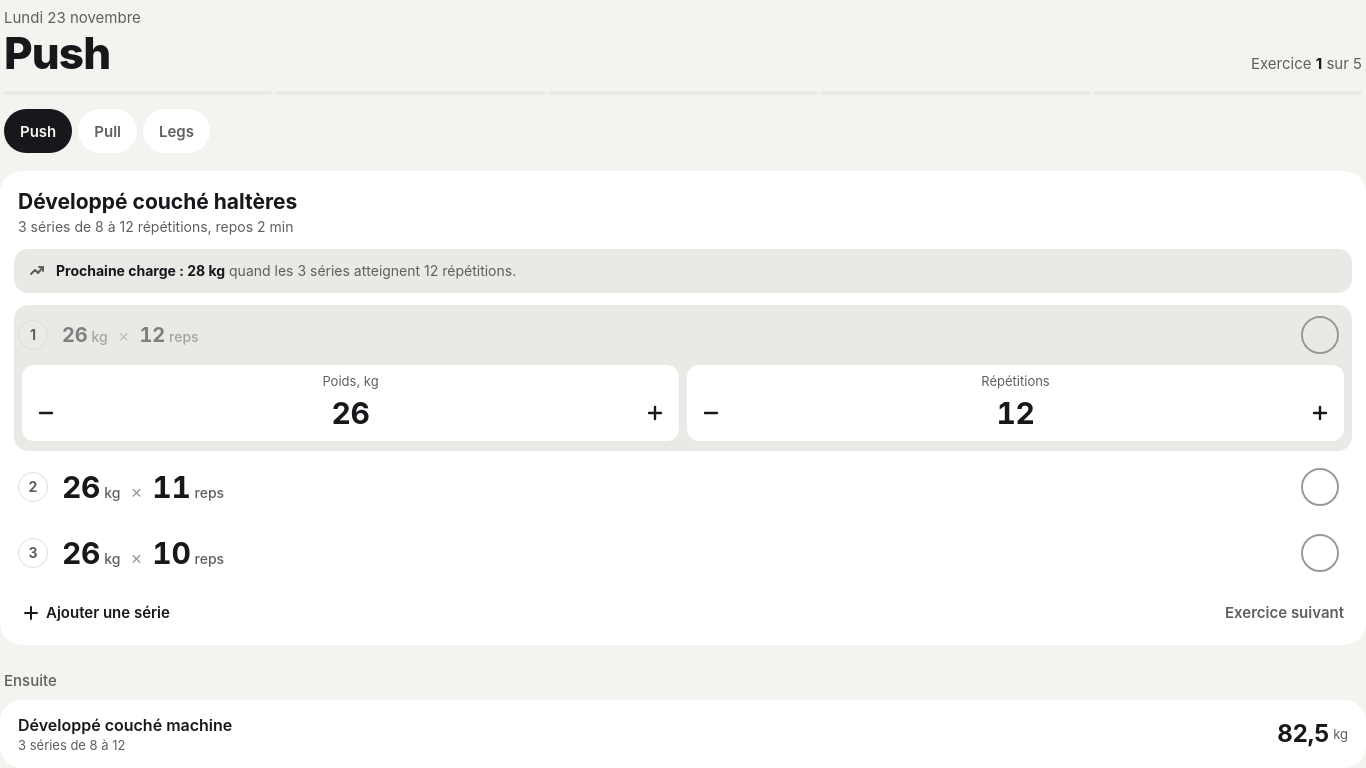
Test: SessionPage › valider les 3 séries replie l’exercice (3/3) et ouvre le suivant
What coordinates should you click on to do the following:
click the button named "Valider la série 1"
I would click on:
 (1320, 335)
Its box is x1=1294 y1=309 x2=1346 y2=361.
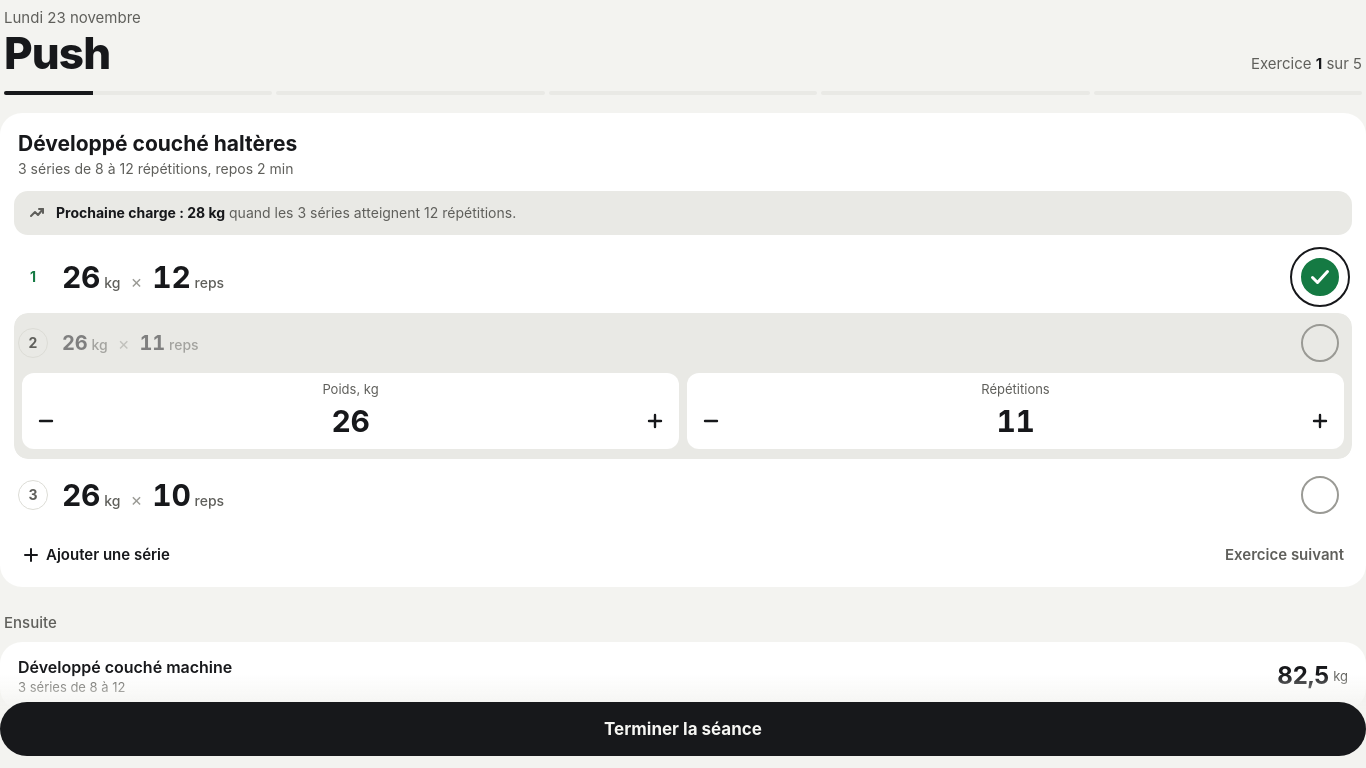
What coordinates should you click on to do the following:
click the button named "Valider la série 2"
I would click on:
 (1320, 343)
Its box is x1=1294 y1=317 x2=1346 y2=369.
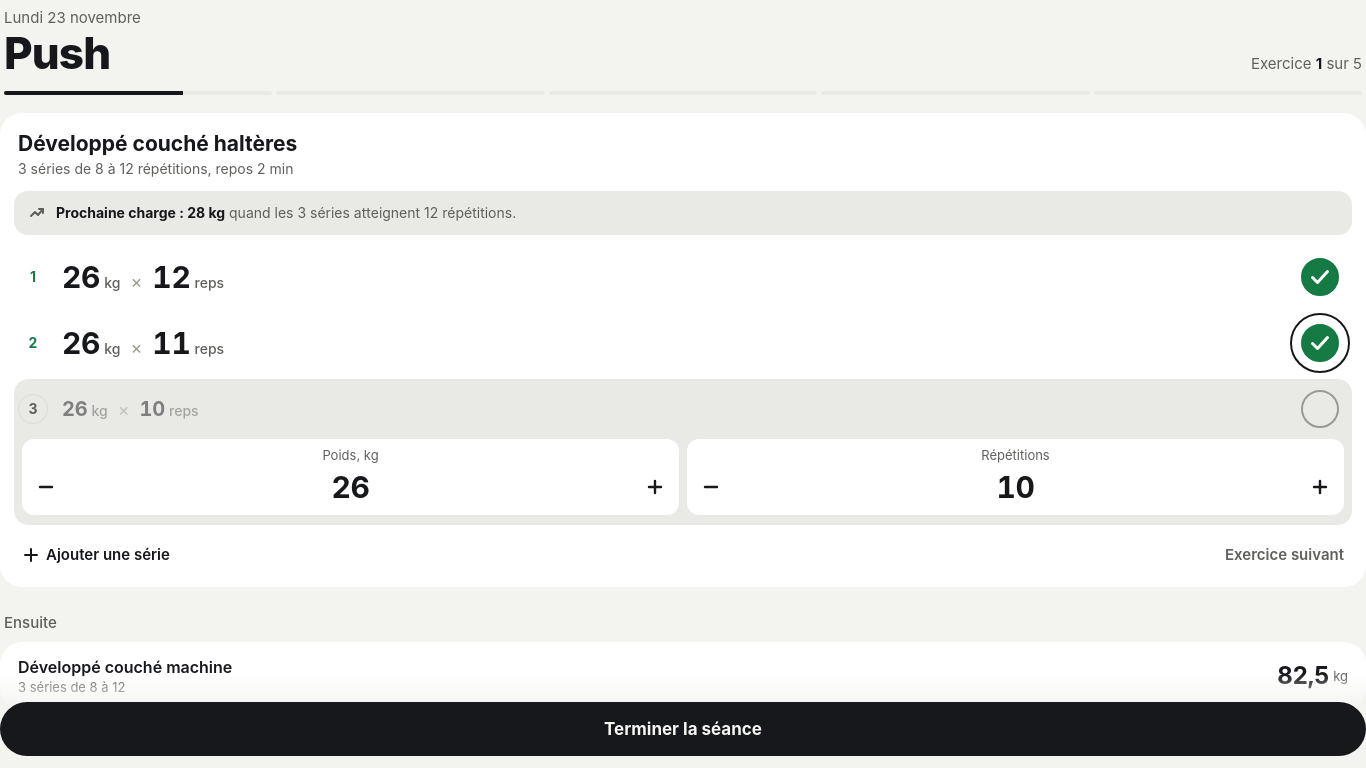
What coordinates should you click on to do the following:
click the button named "Valider la série 3"
I would click on:
 (1320, 409)
Its box is x1=1294 y1=383 x2=1346 y2=435.
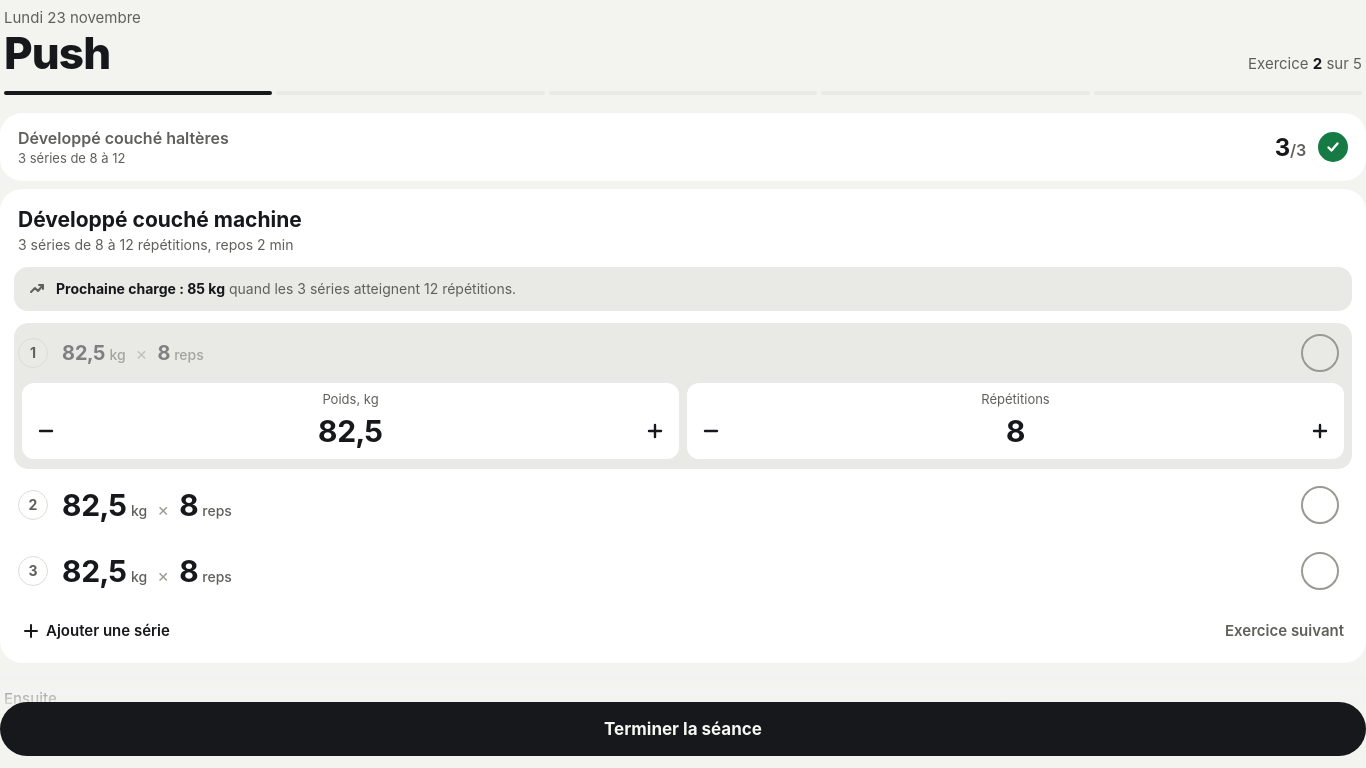
Check: the element with class "session-count" reads "Exercice 2 sur 5", box x1=1248 y1=54 x2=1362 y2=73
Check: the button "Développé couché haltères 3 séries de 8 à 12 3/3" is shown, box x1=0 y1=113 x2=1365 y2=181
